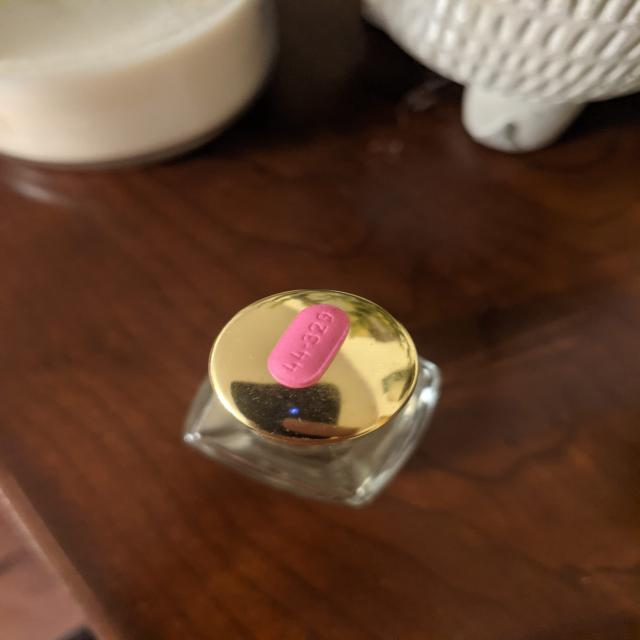non-organic waste: (266, 303, 352, 390)
